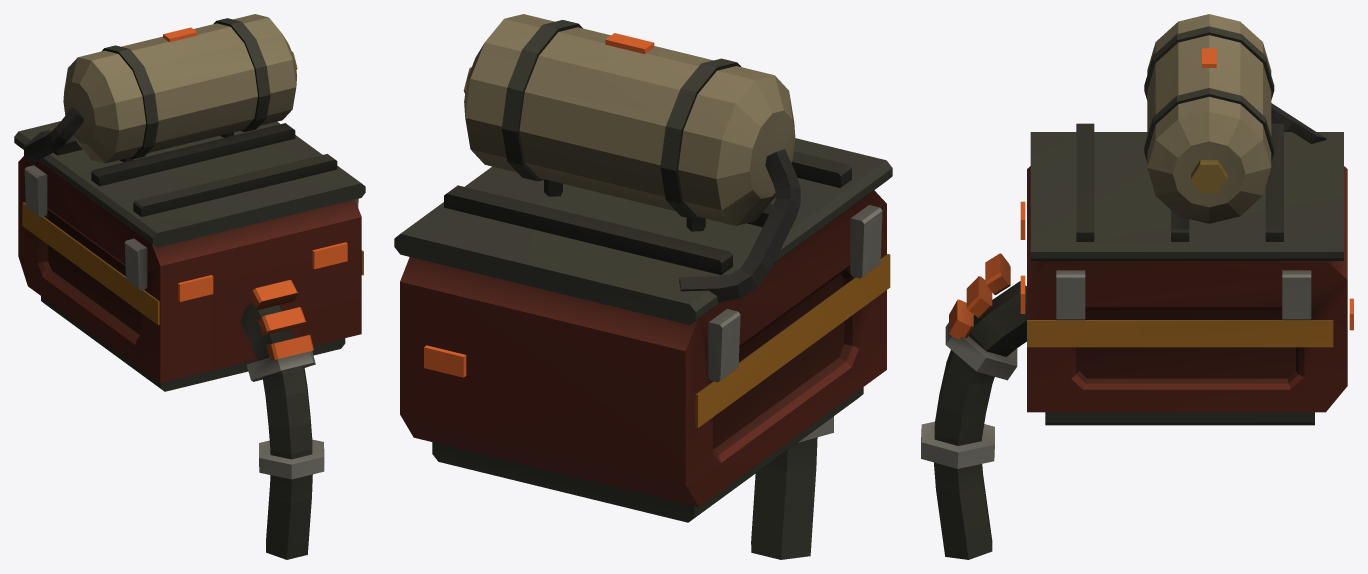
File: sh-incendiary.glb
The picture shows the model from 3 angles, left to right: view 1: azimuth 30°, elevation 25°; view 2: azimuth 150°, elevation 25°; view 3: azimuth 270°, elevation 25°; orthographic projection. The views are drawn at different scales.
Visible parts, largest first — view 1: Body, Glow; view 2: Body, Glow; view 3: Body, Glow.
Part boxes in pixels (x1,y1,x2,y2): Body: [14, 14, 365, 559]; Glow: [163, 27, 347, 301]; Body: [394, 14, 892, 559]; Glow: [424, 33, 654, 377]; Body: [921, 14, 1347, 559]; Glow: [1020, 48, 1353, 330].
Size of the model in its own units: 0.8434 by 1.5 by 1.19.
